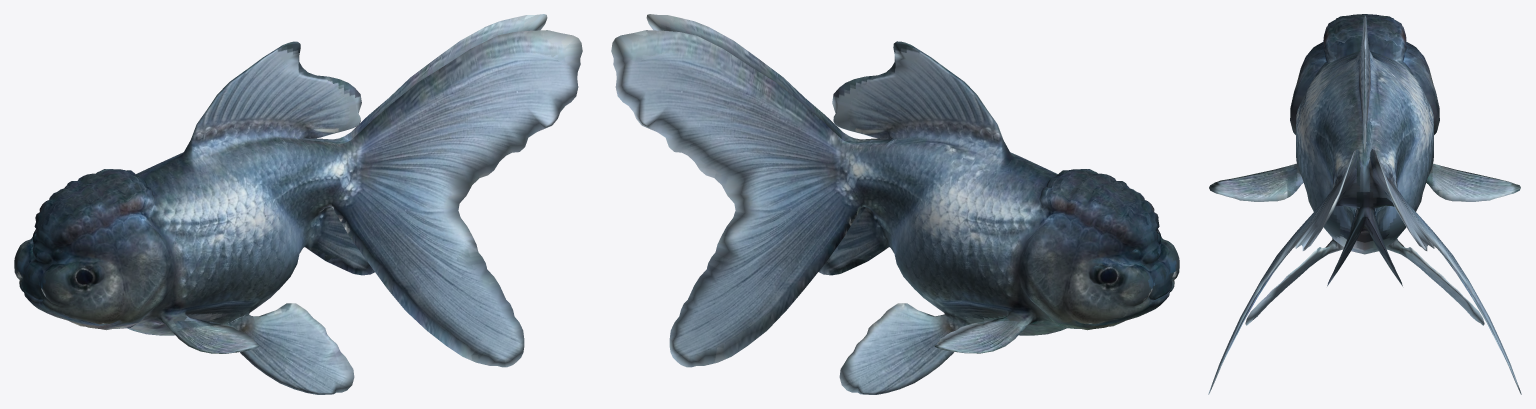
File: fish.glb
The picture shows the model from 3 angles, left to right: view 1: azimuth 30°, elevation 25°; view 2: azimuth 150°, elevation 25°; view 3: azimuth 270°, elevation 25°; orthographic projection.
Parts seen in each view (by area): view 1: fish; view 2: fish; view 3: fish.
Part boxes in pixels (x1,y1,x2,y2): fish: (14, 14, 582, 394); fish: (611, 14, 1179, 394); fish: (1208, 14, 1521, 394).
Size of the model in its own units: 0.12 by 0.0655 by 0.06.
Materials: 1 (1 with a texture image).
